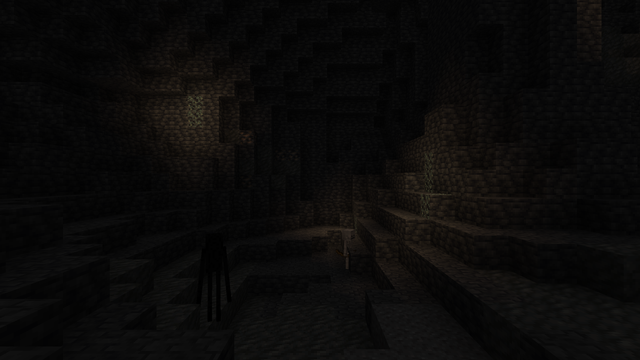endermens: (200, 230, 225, 324)
squelettes: (342, 228, 354, 268)
